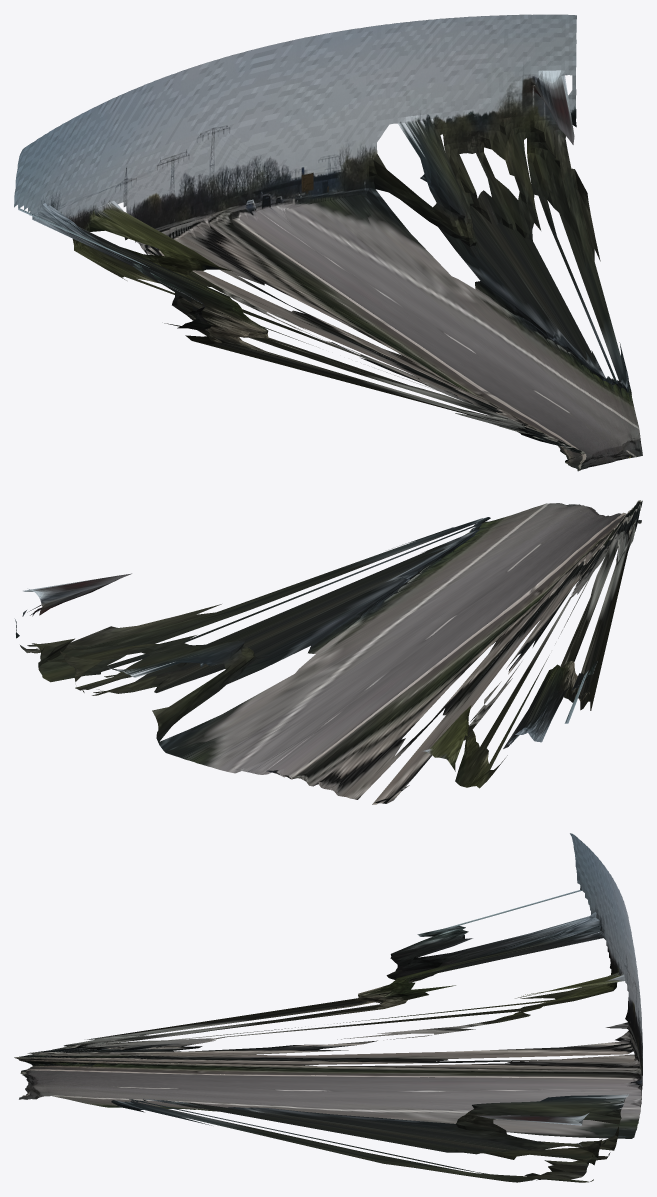
3 renders of one model, top to bottom at view 1: azimuth 30°, elevation 25°; view 2: azimuth 150°, elevation 25°; view 3: azimuth 270°, elevation 25°, orthographic. The views are drawn at different scales.
Visible parts, largest first — view 1: defaultobject; view 2: defaultobject; view 3: defaultobject.
Part boxes in pixels (x1,y1,x2,y2): defaultobject: [14, 14, 642, 471]; defaultobject: [14, 500, 642, 804]; defaultobject: [14, 833, 642, 1182].
Bounding box in the file's own units: 41 × 12.41 × 44.95.
Materials: 1 (1 with a texture image).
